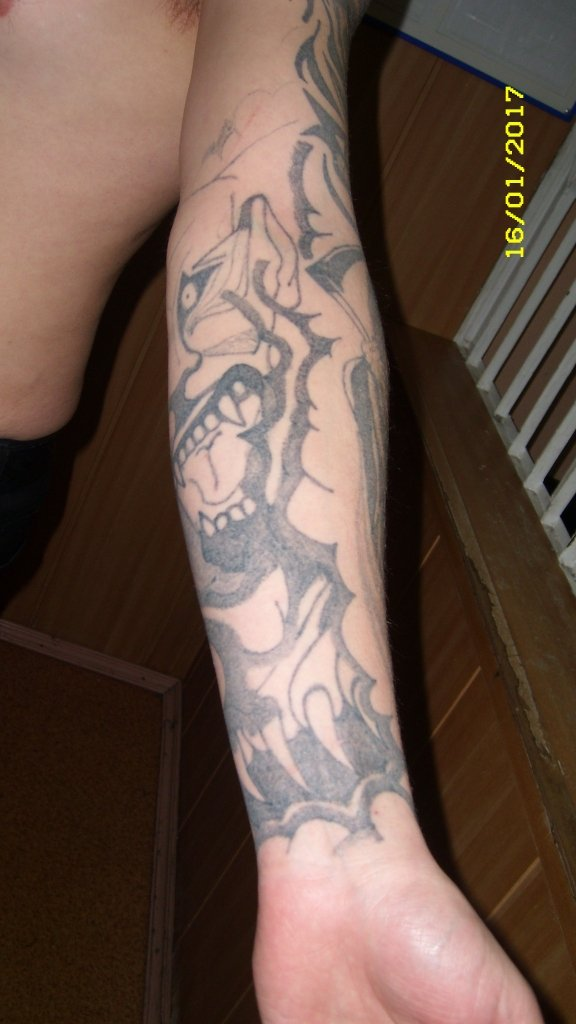tatu7_zmeya: (238, 221, 425, 810)
